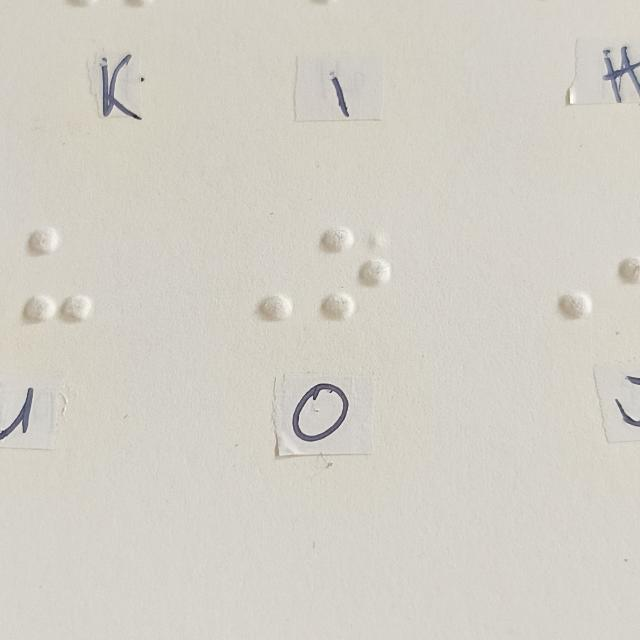capital_sign: (221, 225, 292, 322)
letter_O: (318, 225, 389, 322)
letter_u: (22, 229, 93, 322)
